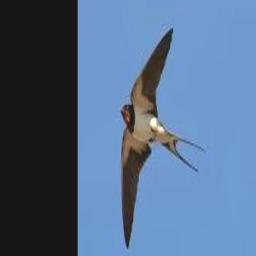Swallow: (119, 28, 205, 249)
